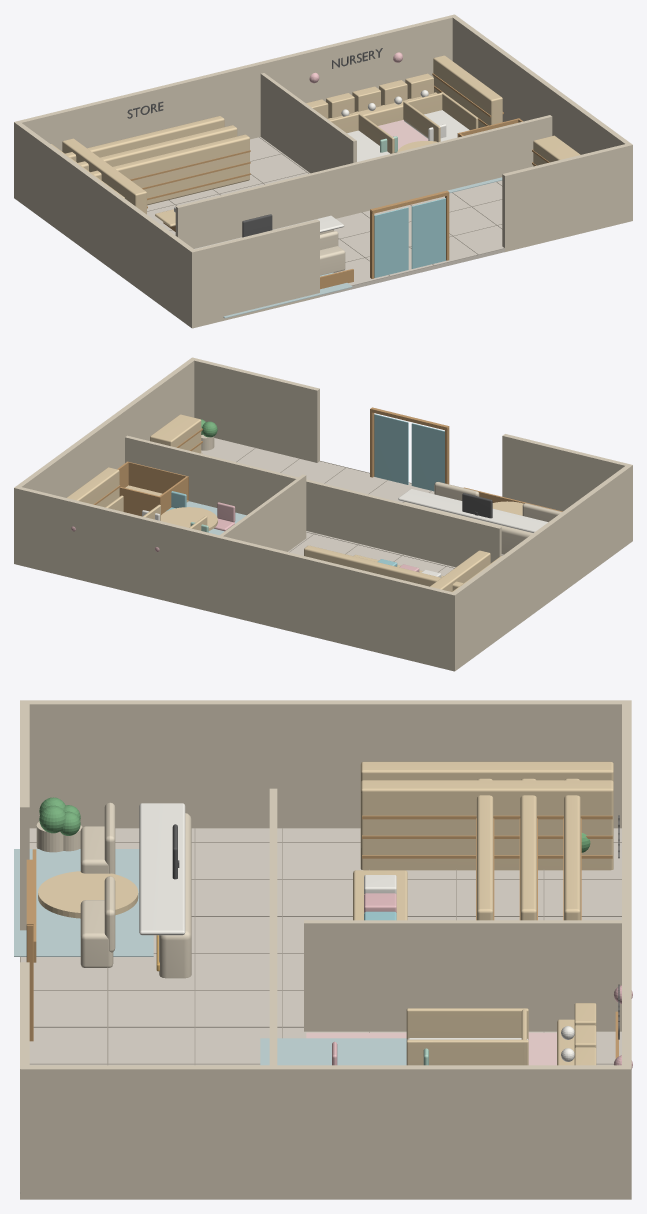
The model's file is first_floor.glb.
The picture shows the model from 3 angles, top to bottom: view 1: azimuth 30°, elevation 25°; view 2: azimuth 150°, elevation 25°; view 3: azimuth 270°, elevation 25°; orthographic projection. The views are drawn at different scales.
Parts seen in each view (by area): view 1: Back wall, Reception rear divider, Left wall, Front wall right, Front wall left, Main floor, Right wall, Central nursery partition, Store back shelf.002, Right nursery shelf, Entrance glass, Entrance glass.001 (+21 smaller); view 2: Back wall, Reception rear divider, Left wall, Front wall right, Right wall, Front wall left, Main floor, Central nursery partition, Entrance glass.001, Entrance glass, Reception desktop, Store back shelf.002 (+12 smaller); view 3: Right wall, Left wall, Main floor, Central nursery partition, Store left shelf.001, Waiting rug, Reception desktop, Store left shelf, Back wall, Nursery activity mat, Crib rail, Crib rail.001 (+18 smaller).
Part boxes in pixels (<box>): Back wall: <box>15,14,456,151</box>; Reception rear divider: <box>175,115,552,248</box>; Left wall: <box>14,121,195,327</box>; Front wall right: <box>502,143,632,251</box>; Front wall left: <box>190,219,319,328</box>; Main floor: <box>147,137,504,296</box>; Right wall: <box>451,15,632,154</box>; Central nursery partition: <box>260,73,356,173</box>; Store back shelf.002: <box>90,134,249,205</box>; Right nursery shelf: <box>433,55,502,127</box>; Entrance glass: <box>374,207,408,277</box>; Entrance glass.001: <box>411,198,445,268</box>; Back wall: <box>14,486,456,671</box>; Reception rear divider: <box>125,435,501,567</box>; Left wall: <box>451,464,632,670</box>; Front wall right: <box>190,357,319,462</box>; Right wall: <box>14,358,196,497</box>; Front wall left: <box>502,434,631,511</box>; Main floor: <box>201,438,503,575</box>; Central nursery partition: <box>220,474,306,551</box>; Entrance glass.001: <box>374,414,408,484</box>; Entrance glass: <box>411,423,444,491</box>; Reception desktop: <box>398,489,547,532</box>; Store back shelf.002: <box>304,545,463,590</box>; Right wall: <box>20,1065,631,1199</box>; Left wall: <box>22,700,627,828</box>; Main floor: <box>21,828,621,1065</box>; Central nursery partition: <box>304,920,621,1031</box>; Store left shelf.001: <box>360,780,613,870</box>; Waiting rug: <box>14,849,153,956</box>; Reception desktop: <box>139,803,185,935</box>; Store left shelf: <box>360,761,613,782</box>; Back wall: <box>622,700,631,1199</box>; Nursery activity mat: <box>260,1038,406,1065</box>; Crib rail: <box>406,1008,528,1039</box>; Crib rail.001: <box>406,1039,528,1065</box>.
Size of the model in its own units: 20.02 by 3.3 by 14.19.
